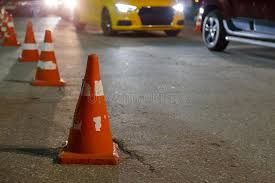car: (200, 1, 275, 53)
cone: (57, 53, 120, 164), (73, 1, 185, 38), (31, 30, 66, 86), (18, 21, 40, 63), (3, 13, 20, 47), (192, 13, 203, 35)
